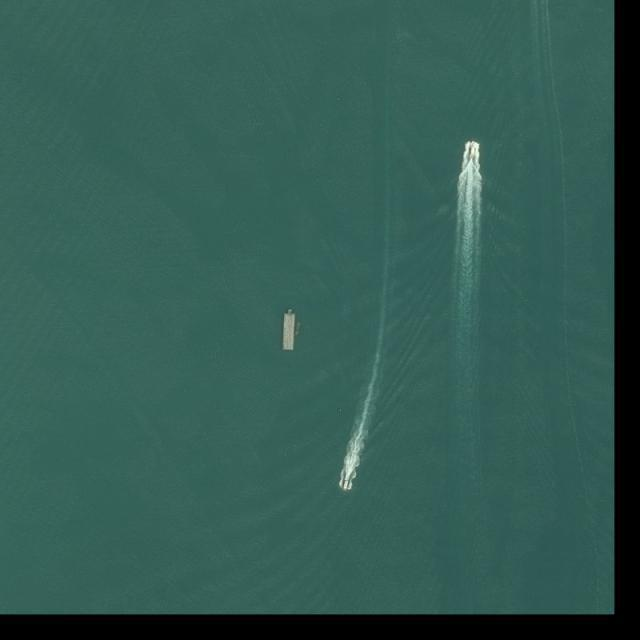ship: (283, 309, 296, 351), (468, 141, 476, 158), (295, 322, 302, 337), (342, 480, 350, 492)
